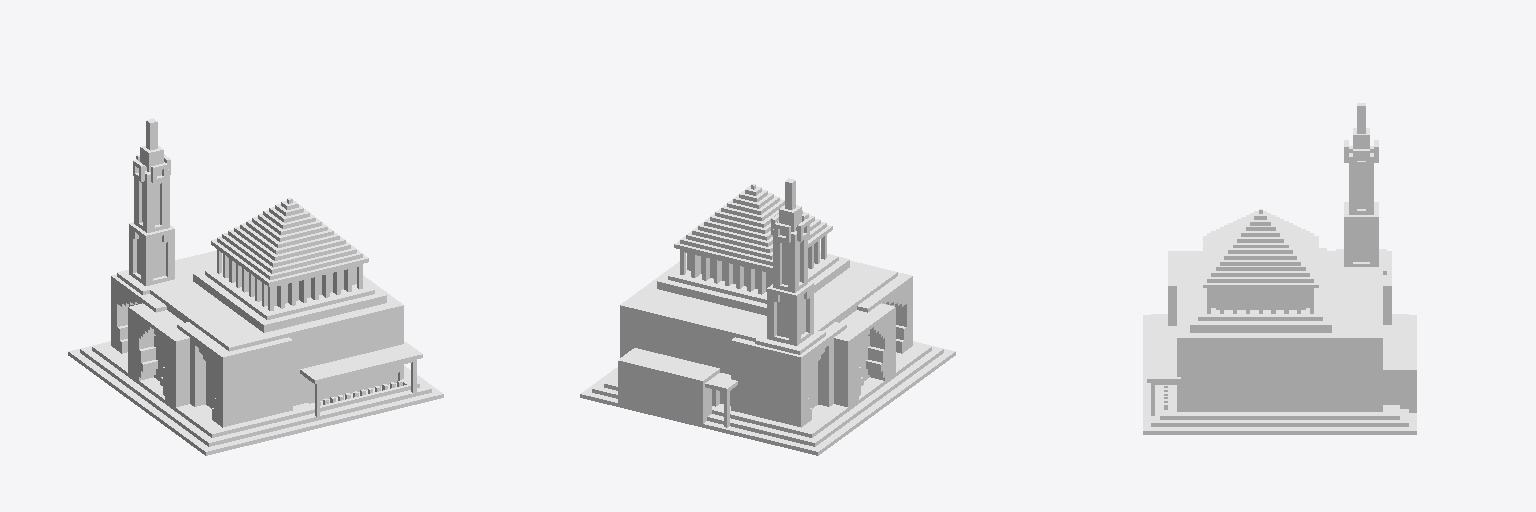
The model's file is mosque.obj.
3 renders of one model, left to right at view 1: azimuth 30°, elevation 25°; view 2: azimuth 150°, elevation 25°; view 3: azimuth 270°, elevation 25°, orthographic.
Parts seen in each view (by area): view 1: object 1; view 2: object 1; view 3: object 1.
Boxes of the visible parts, x1=… form: object 1: x1=68, y1=118, x2=443, y2=455; object 1: x1=580, y1=178, x2=955, y2=455; object 1: x1=1143, y1=103, x2=1416, y2=434.
Bounding box in the file's own units: 6.4 × 6.2 × 6.4.